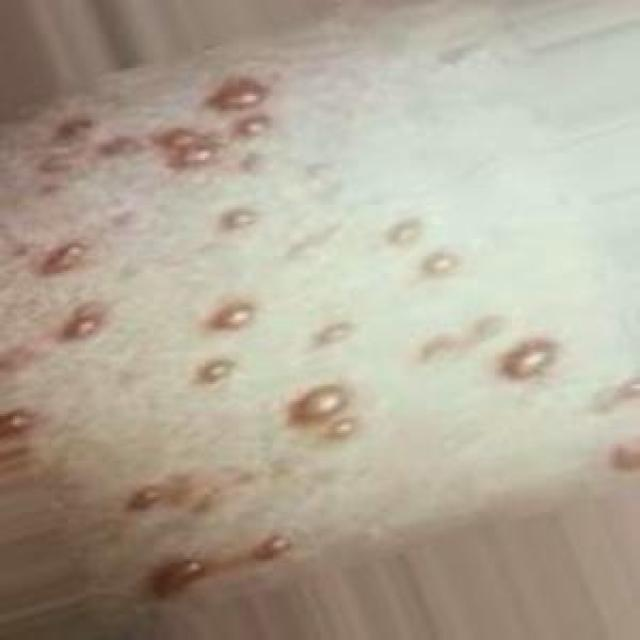Shingles: (208, 81, 269, 110), (161, 132, 211, 167), (207, 299, 256, 332), (40, 242, 86, 276), (506, 345, 552, 377), (160, 556, 203, 586), (303, 386, 344, 417), (55, 116, 94, 140), (128, 486, 164, 512), (317, 322, 355, 346), (70, 312, 100, 339), (257, 536, 290, 560), (240, 115, 269, 139), (203, 359, 234, 381), (427, 253, 457, 275), (393, 224, 420, 244), (6, 411, 30, 431), (231, 210, 256, 228)
